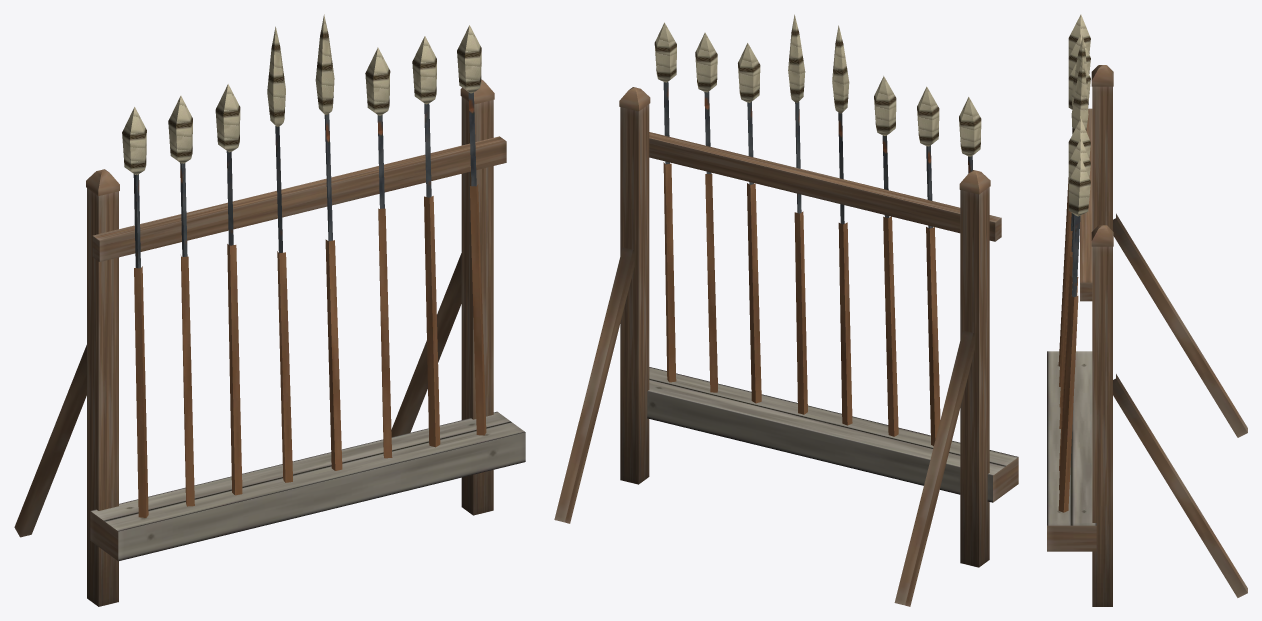
File: harpoon-rack.glb
The picture shows the model from 3 angles, left to right: view 1: azimuth 30°, elevation 25°; view 2: azimuth 150°, elevation 25°; view 3: azimuth 270°, elevation 25°; orthographic projection. The views are drawn at different scales.
Parts seen in each view (by area): view 1: harpoon-rack; view 2: harpoon-rack; view 3: harpoon-rack.
Part boxes in pixels (x1=…): harpoon-rack: x1=14, y1=14, x2=525, y2=606; harpoon-rack: x1=554, y1=14, x2=1018, y2=606; harpoon-rack: x1=1047, y1=14, x2=1247, y2=606.
Size of the model in its own units: 2 by 2.55 by 0.9747.
Materials: 1 (1 with a texture image).
